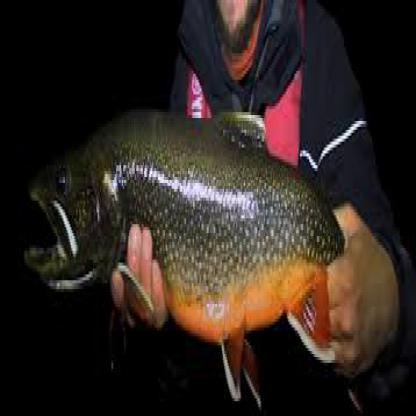fish: (27, 87, 366, 398)
